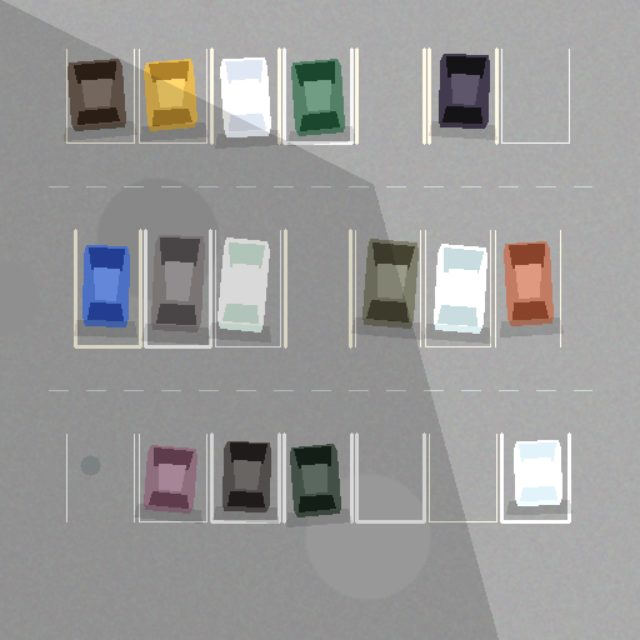space-empty: (285, 230, 350, 346), (356, 49, 424, 142), (501, 49, 569, 142), (66, 434, 134, 521), (356, 434, 424, 521), (429, 434, 496, 521)
space-occupied: (75, 230, 140, 346), (145, 230, 210, 346), (215, 230, 280, 346), (355, 230, 420, 346), (425, 230, 490, 346), (495, 230, 560, 346), (66, 49, 134, 142), (211, 49, 279, 142), (139, 49, 206, 142), (284, 49, 351, 142), (429, 49, 496, 142), (211, 434, 279, 521), (501, 434, 569, 521), (139, 434, 206, 521), (284, 434, 351, 521)
